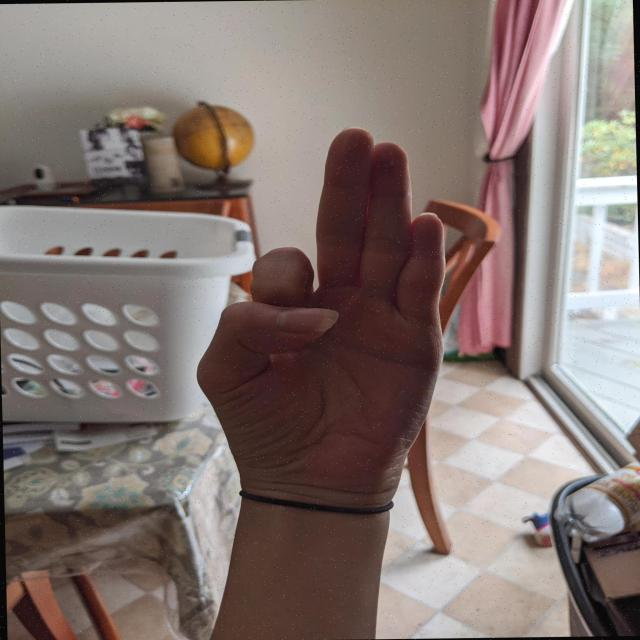F: (186, 122, 462, 487)
